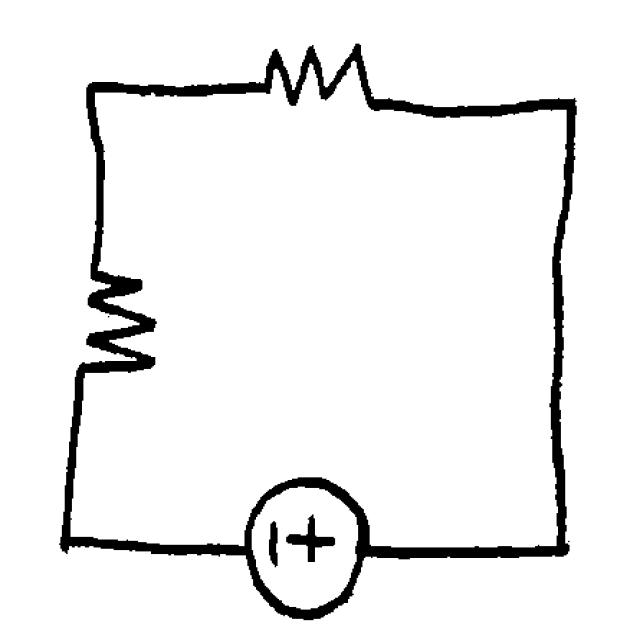dc: (229, 468, 377, 625)
resistor: (64, 247, 170, 387), (244, 36, 394, 122)
